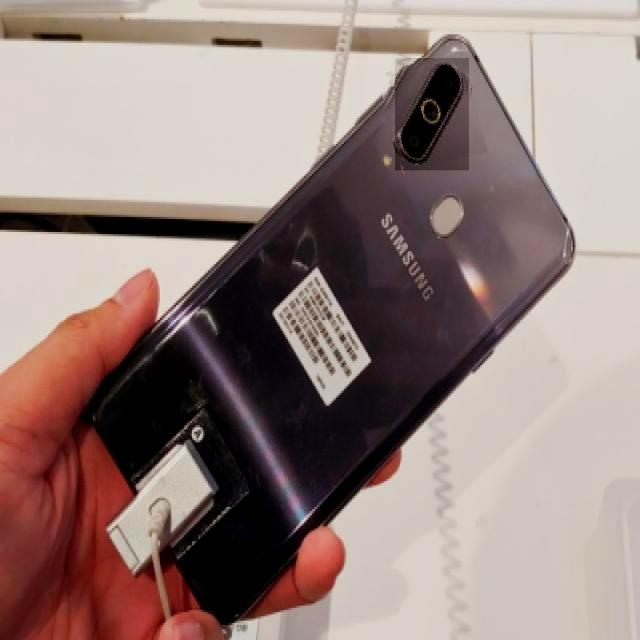lens: (393, 60, 464, 162)
phone: (88, 32, 577, 627)
